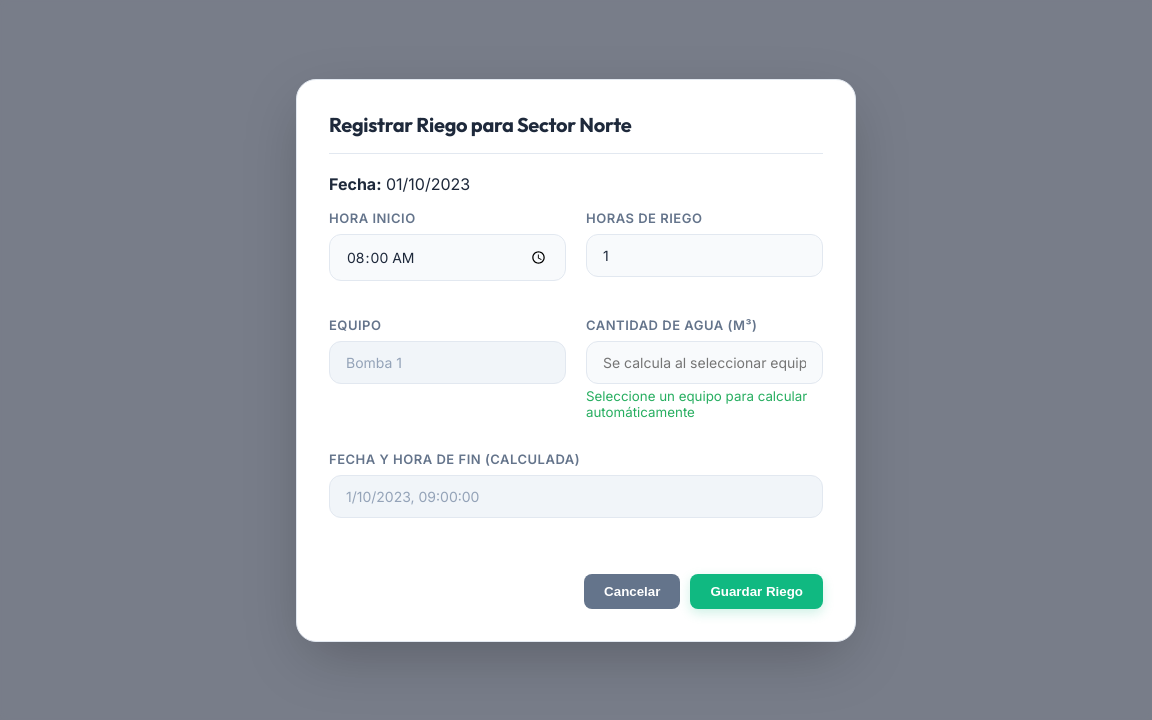
Test: IrrigationForm › calculates end time correctly when hours change
The width and height of the screenshot is (1152, 720).
Replace the text in the field labelled "Horas de Riego" with "2" at point(704, 255), box left=586, top=234, right=823, bottom=277
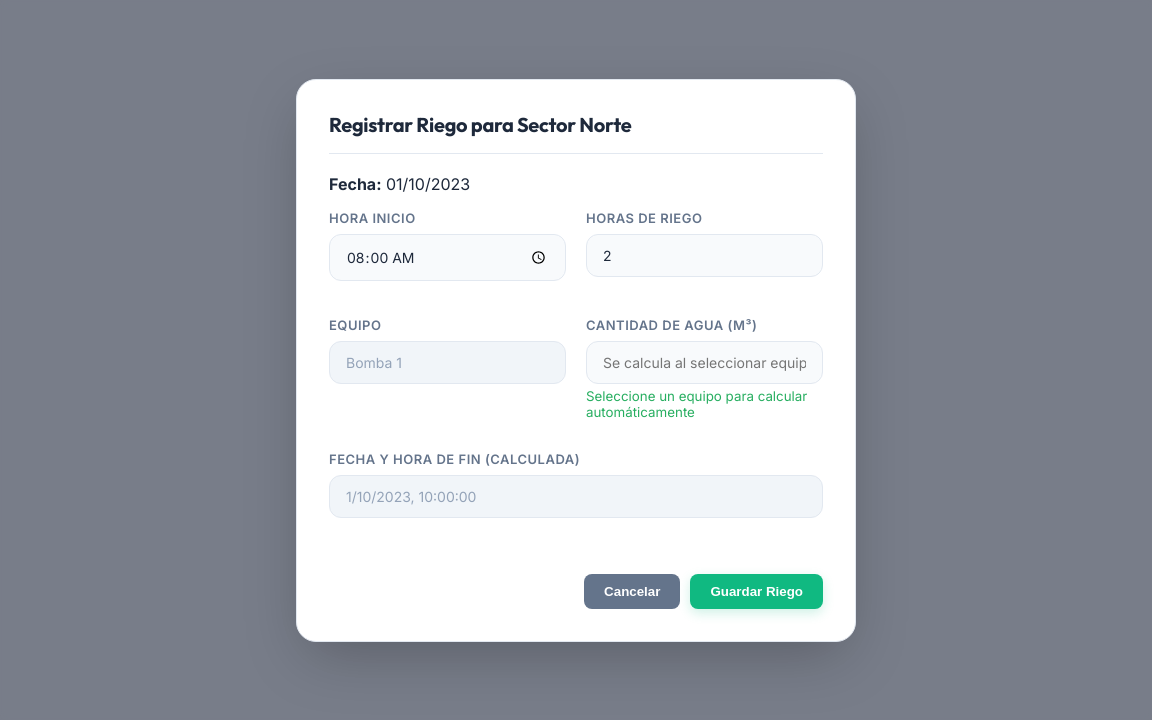
Expected: the field showing "10:00:00" below "Fecha y Hora de Fin (Calculada)" is shown, left=329, top=474, right=823, bottom=517
